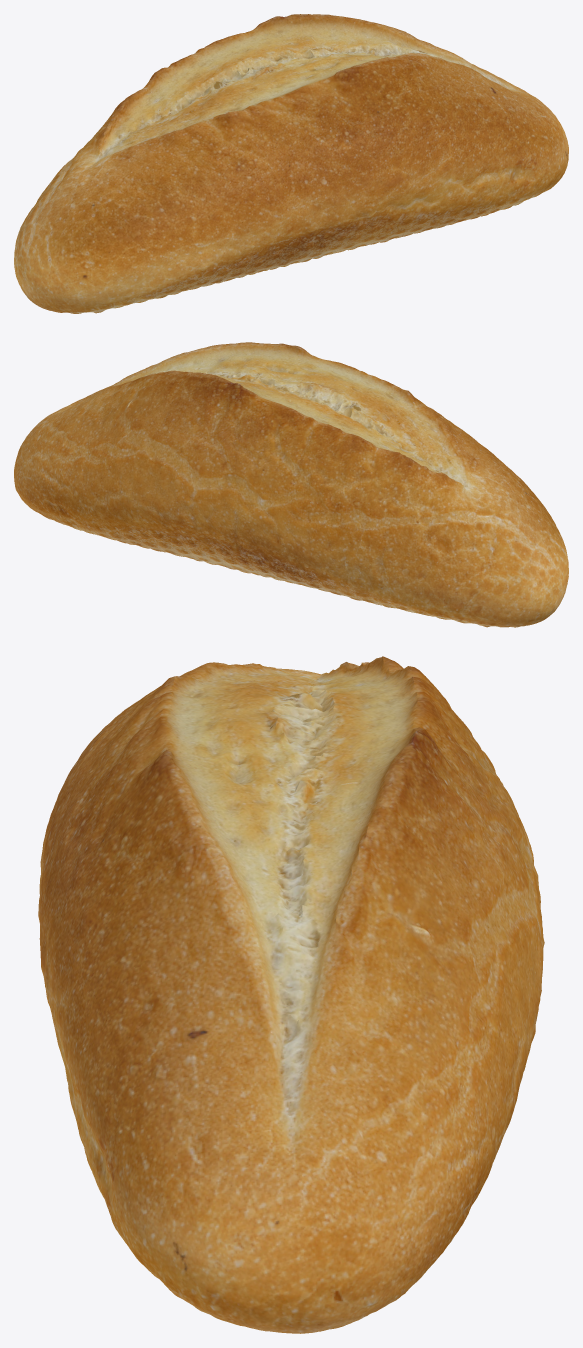
The model's file is small_baugette.glb.
The picture shows the model from 3 angles, top to bottom: view 1: azimuth 30°, elevation 25°; view 2: azimuth 150°, elevation 25°; view 3: azimuth 270°, elevation 25°; orthographic projection. The views are drawn at different scales.
Visible parts, largest first — view 1: Model; view 2: Model; view 3: Model.
Part boxes in pixels (x1,y1,x2,y2): Model: [14, 14, 568, 313]; Model: [14, 342, 568, 627]; Model: [38, 656, 544, 1333].
Bounding box in the file's own units: 14.52 × 5.26 × 5.97.
1 material, 1 textured.
